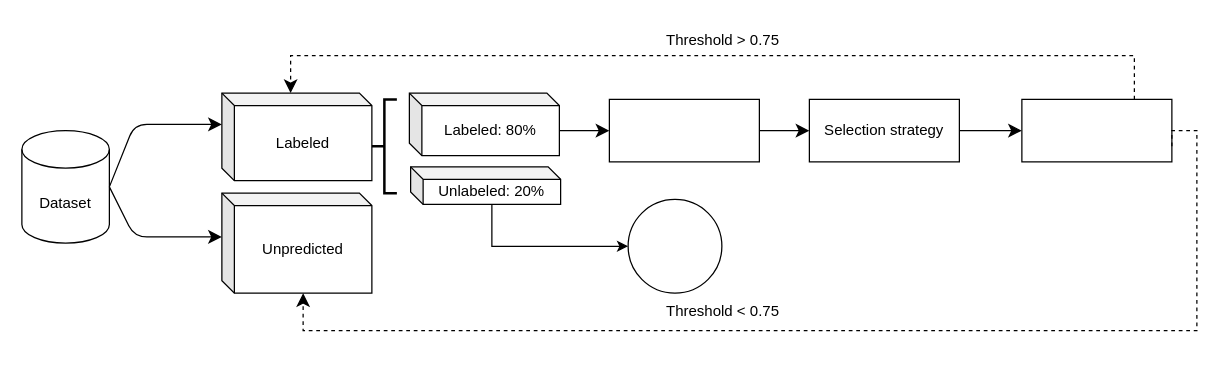
Image size: 1231x365. Some labels were removed from this diagram. Each missing label, with the centre of its shape:
"Models" belongs at point (683, 130).
"Predictions" belongs at point (1096, 130).
"Validation" belongs at point (674, 245).
